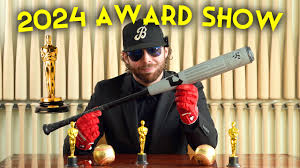baseball bat: (42, 46, 255, 135)
